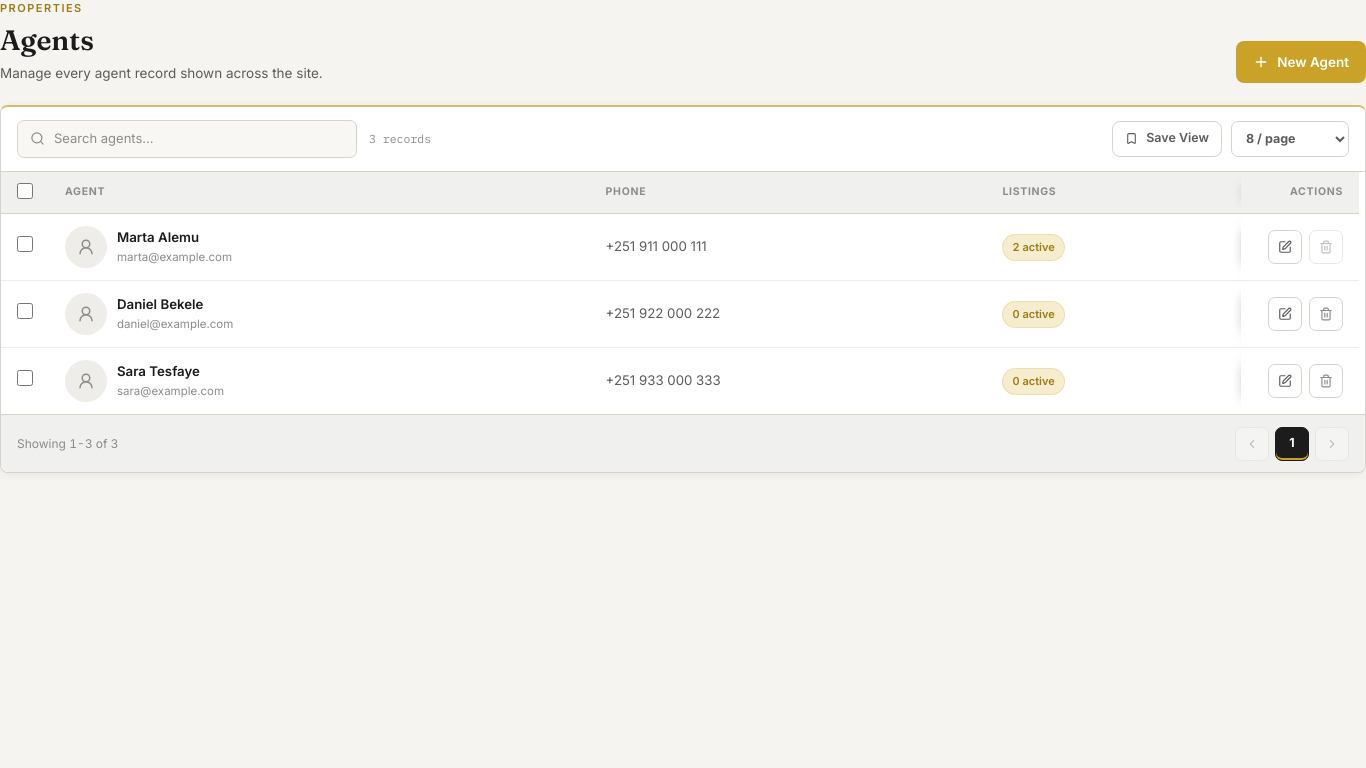
Test: AgentsPage › blocks deleting an agent that still owns listings
Click the button named "Delete Marta Alemu": (1326, 247) [1309,230,1343,264]
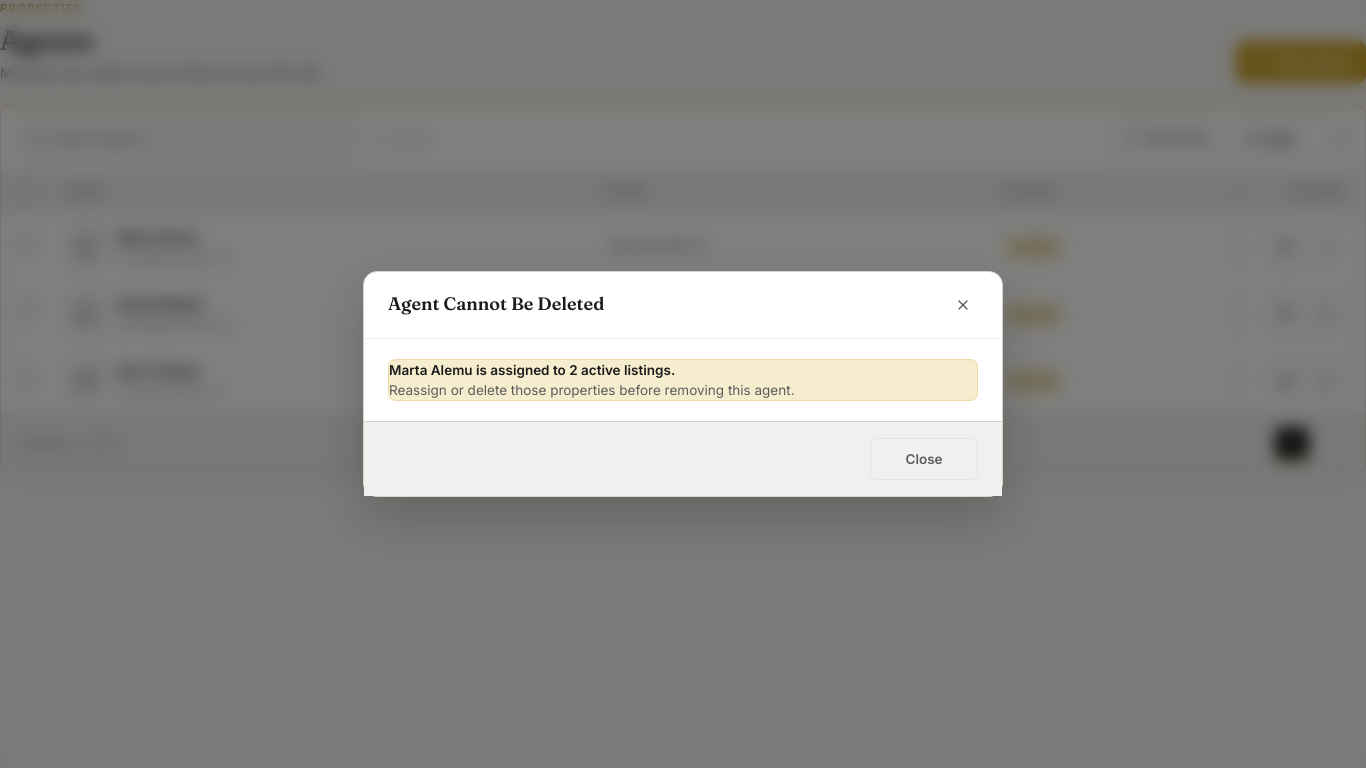
Expected: the text "Marta Alemu is assigned to 2 active listings." is shown, [389,362,675,378]
